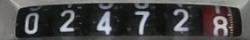digits: (209, 16, 229, 39), (133, 10, 150, 34), (172, 8, 189, 31), (58, 9, 75, 32), (96, 10, 112, 34), (24, 12, 38, 34)
